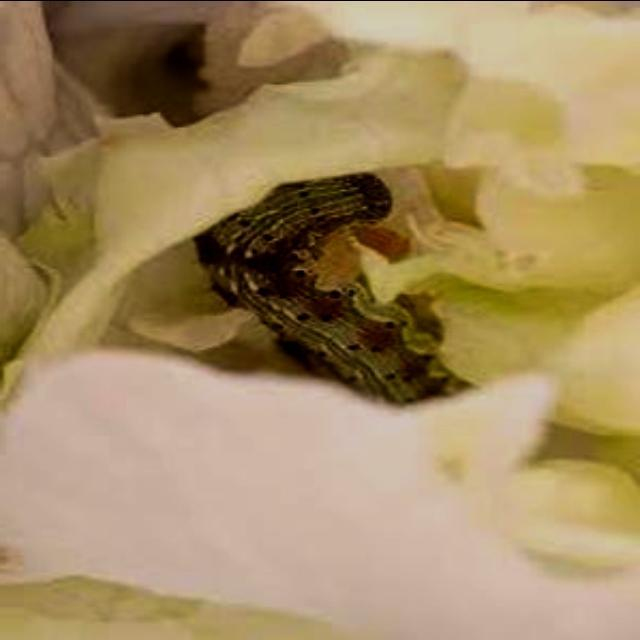Cotton bollworm: (175, 142, 490, 466)
